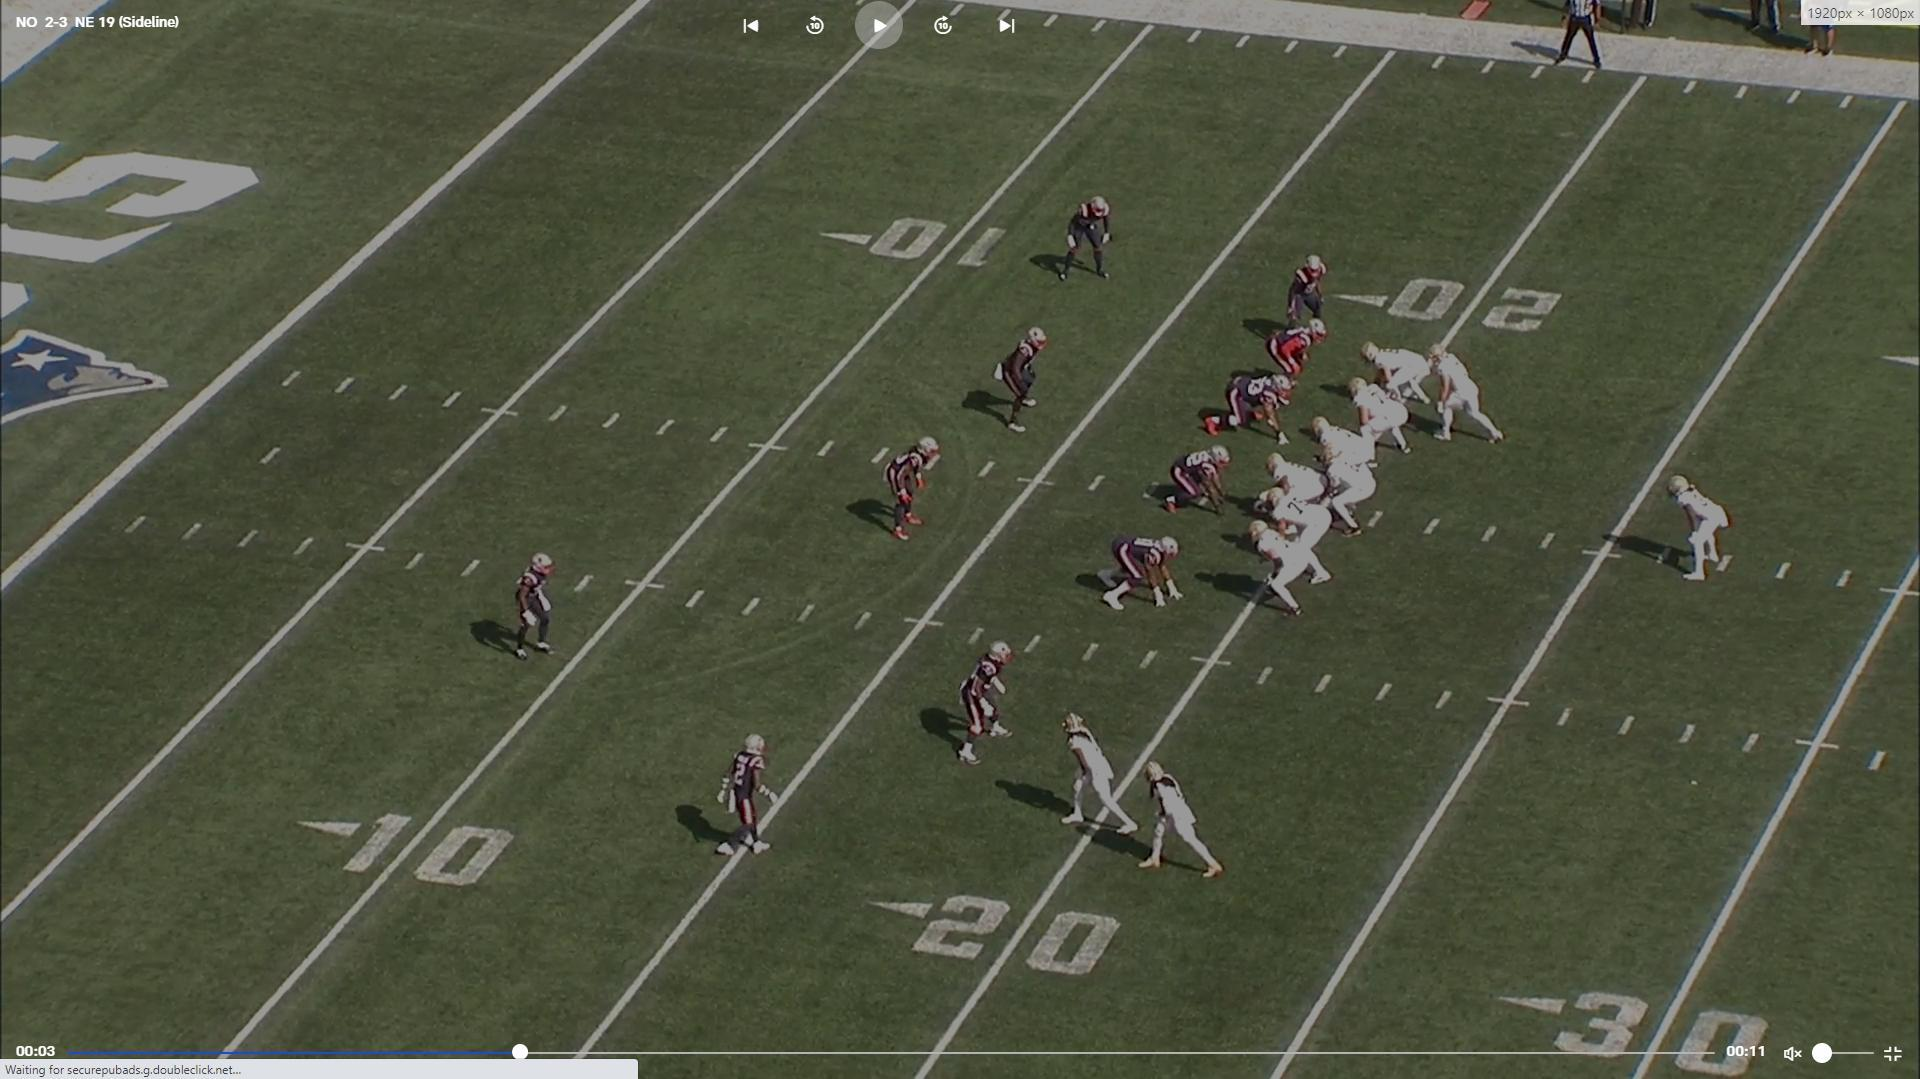player: (1138, 760, 1228, 887), (1053, 711, 1139, 841), (950, 639, 1018, 771), (1429, 340, 1507, 446), (718, 729, 778, 865), (1245, 521, 1324, 623), (1667, 473, 1732, 586), (1259, 489, 1334, 586), (1100, 536, 1190, 615), (1207, 372, 1301, 447), (887, 435, 945, 547), (1000, 322, 1056, 437), (511, 547, 561, 665), (1346, 377, 1411, 463), (1059, 192, 1114, 290), (1322, 445, 1378, 541), (1314, 414, 1381, 494), (1160, 445, 1232, 516), (1362, 340, 1433, 412), (1280, 250, 1332, 342), (1264, 323, 1327, 391), (1264, 453, 1328, 506)
ref: (1550, 0, 1610, 70)
